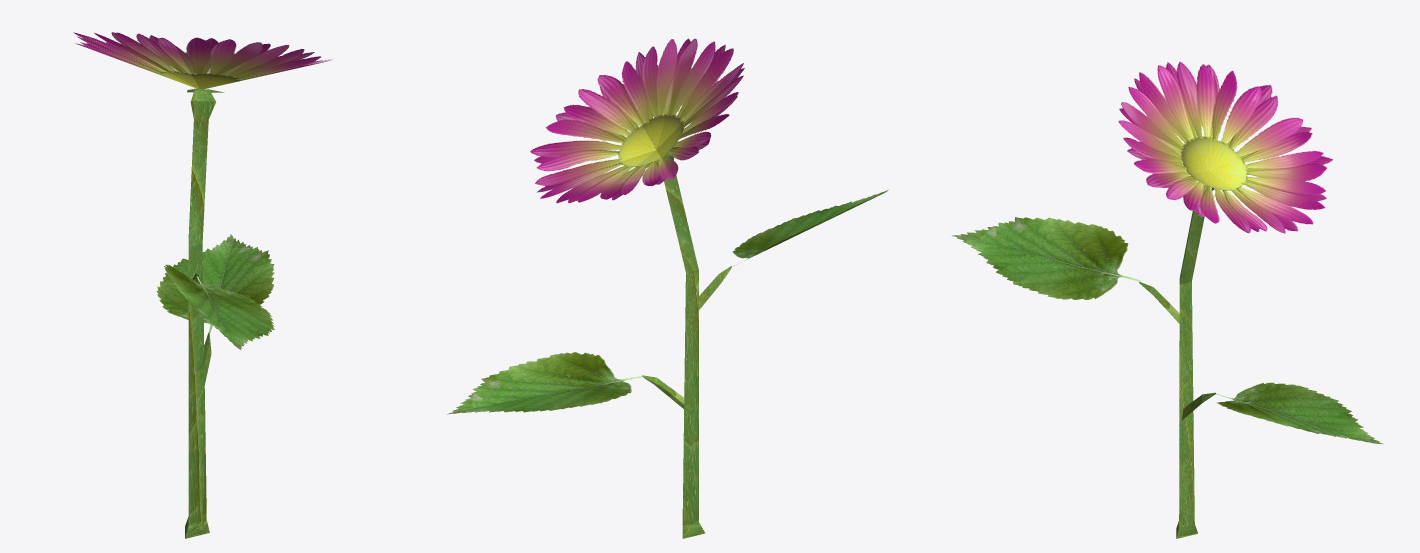
File: flower2.obj
The picture shows the model from 3 angles, left to right: view 1: azimuth 30°, elevation 25°; view 2: azimuth 150°, elevation 25°; view 3: azimuth 270°, elevation 25°; orthographic projection. The views are drawn at different scales.
Visible parts, largest first — view 1: Circle, Circle.001; view 2: Circle.001, Circle; view 3: Circle.001, Circle.
Part boxes in pixels (left/top/right/bottom): Circle: left=156, top=88, right=274, bottom=538; Circle.001: left=73, top=32, right=331, bottom=89; Circle.001: left=530, top=38, right=744, bottom=203; Circle: left=447, top=147, right=888, bottom=538; Circle.001: left=1118, top=61, right=1332, bottom=233; Circle: left=951, top=184, right=1383, bottom=538.
Bounding box in the file's own units: 4.7 × 8 × 6.91.
